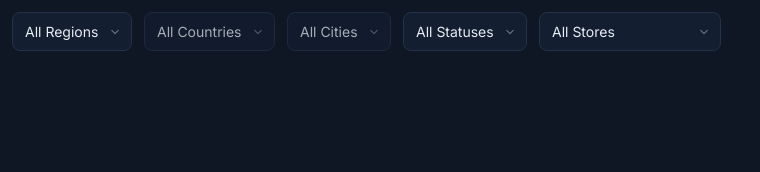
Test: Filtering Functionality Validation › Clearing region disables country and city
The width and height of the screenshot is (760, 172).
Set up filters
Select "EMEA" in the 1st dropdown showing "All Regions" at (72, 32), box [12,12,132,51]
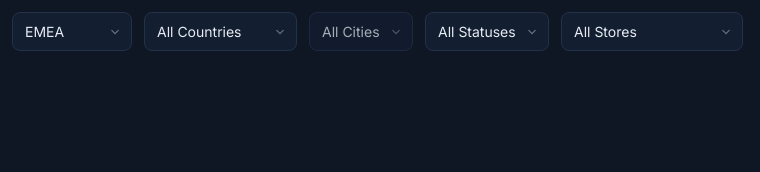
Check: the 2nd dropdown showing "All Countries" is enabled, box [144,12,297,51]
Clear region
Select "All Regions" in the 1st dropdown showing "All Regions" at (72, 32), box [12,12,132,51]
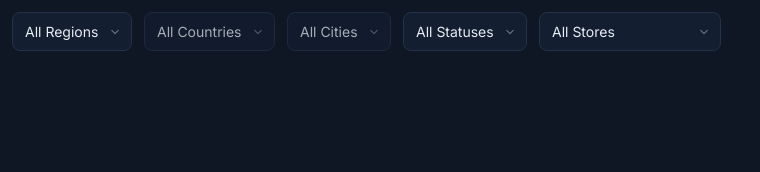
Check: the 3rd dropdown showing "All Cities" is disabled, box [287,12,391,51]
Check: the 2nd dropdown showing "All Countries" is disabled, box [144,12,275,51]
